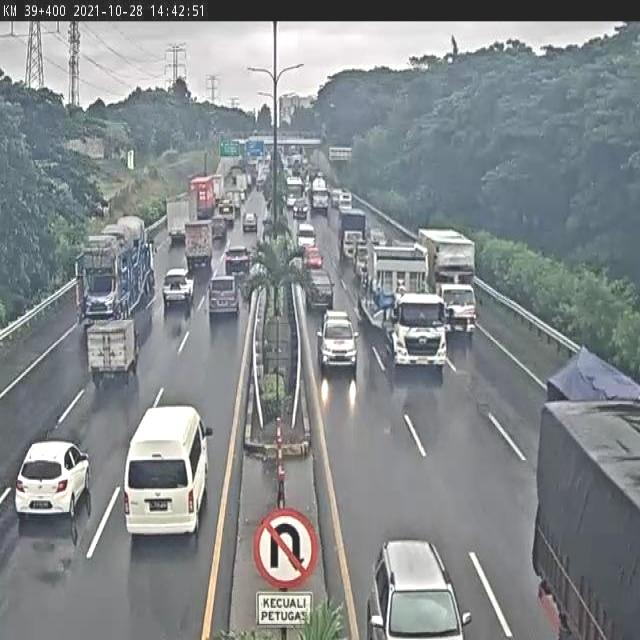Car: (14, 440, 92, 522), (316, 315, 360, 371), (162, 269, 194, 306)
Truck: (361, 240, 449, 373), (74, 214, 158, 331), (85, 314, 141, 385)
Van: (123, 402, 213, 539), (206, 272, 240, 320)
